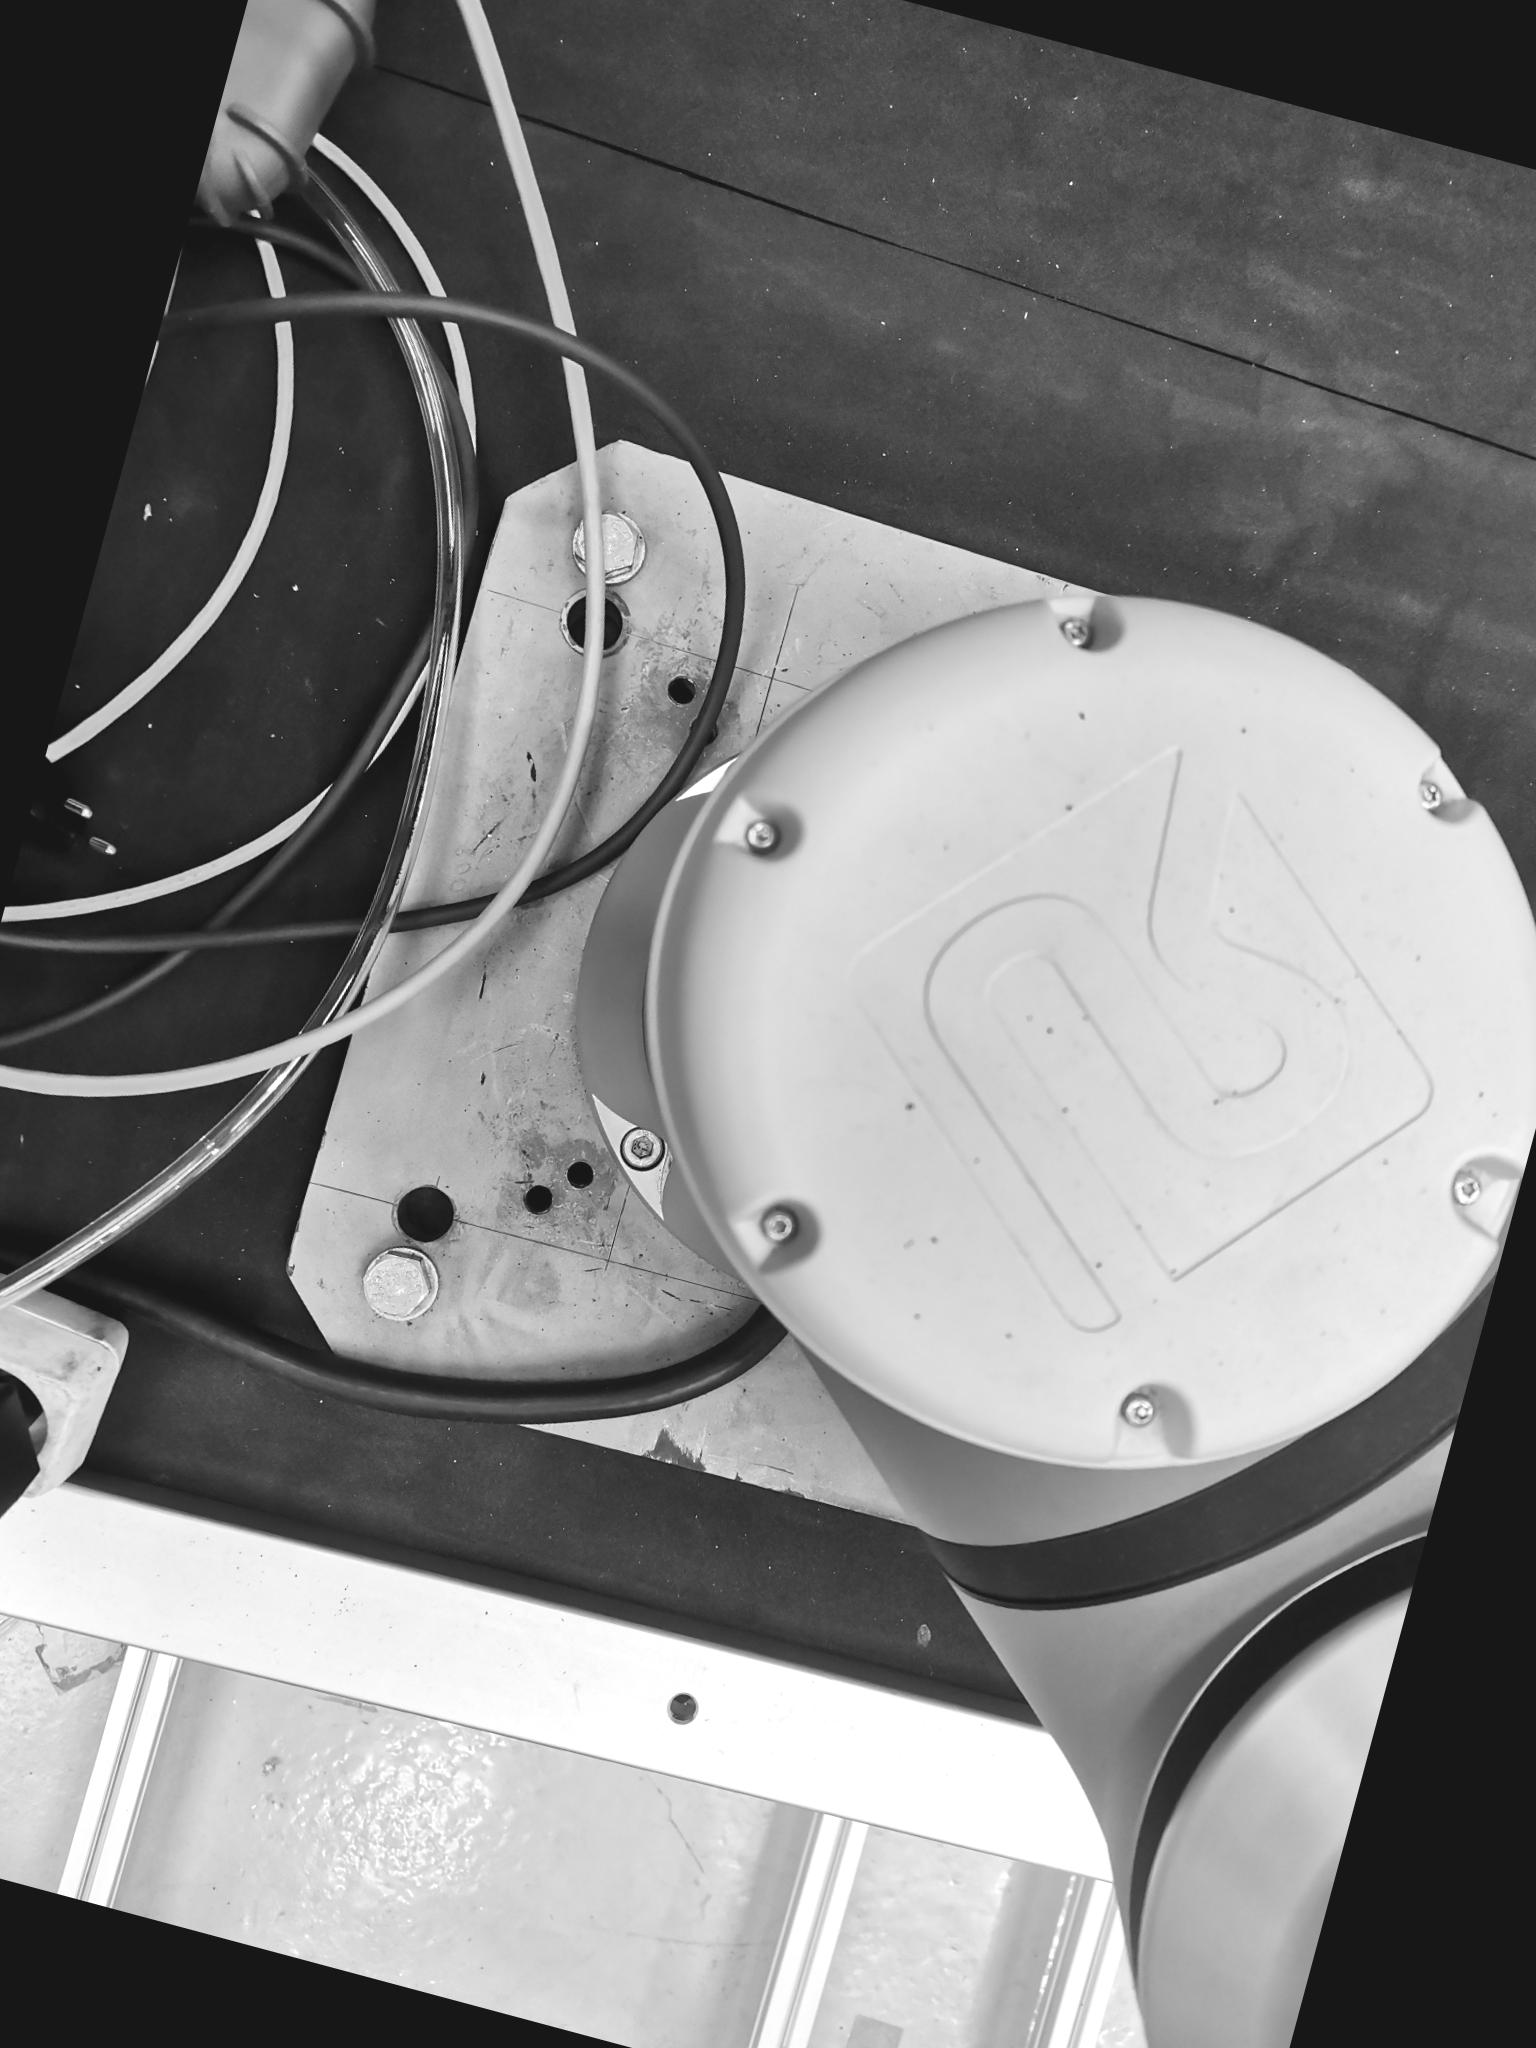allen: (611, 1121, 673, 1176)
hexagonal: (345, 1234, 450, 1334)
